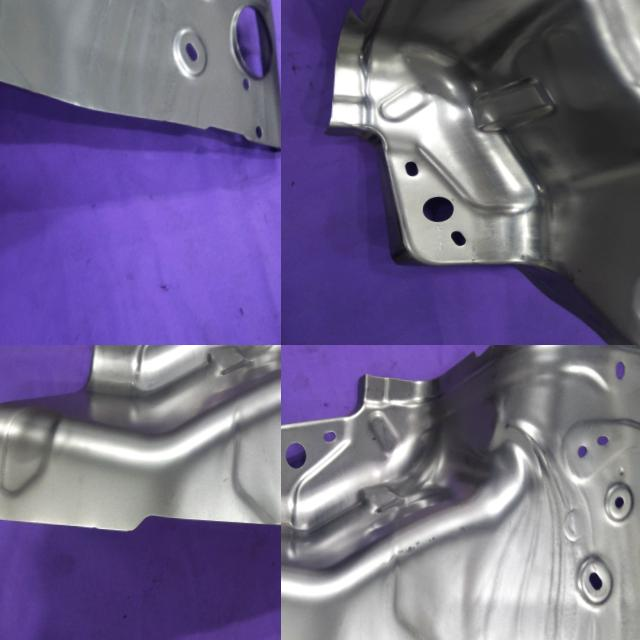Defect: (341, 0, 386, 29), (465, 345, 509, 367)
Healthy: (0, 0, 281, 155)
